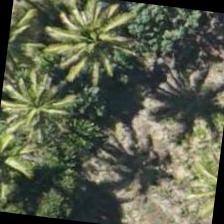Kelapa_Sawit: (0, 50, 85, 150), (29, 0, 128, 70)
